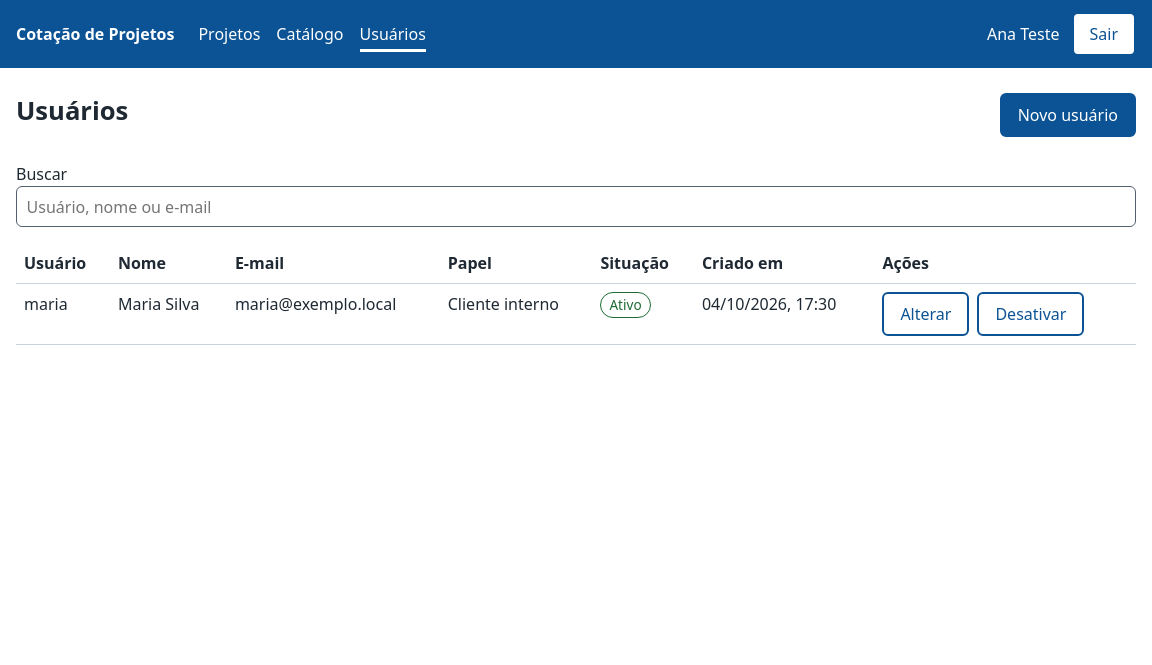
Gestão de usuários pelo Admin › mostra no campo a duplicidade apontada pela API
Step 1. Click the button with aria-label "Alterar maria" → (926, 314), box [882, 292, 969, 336]
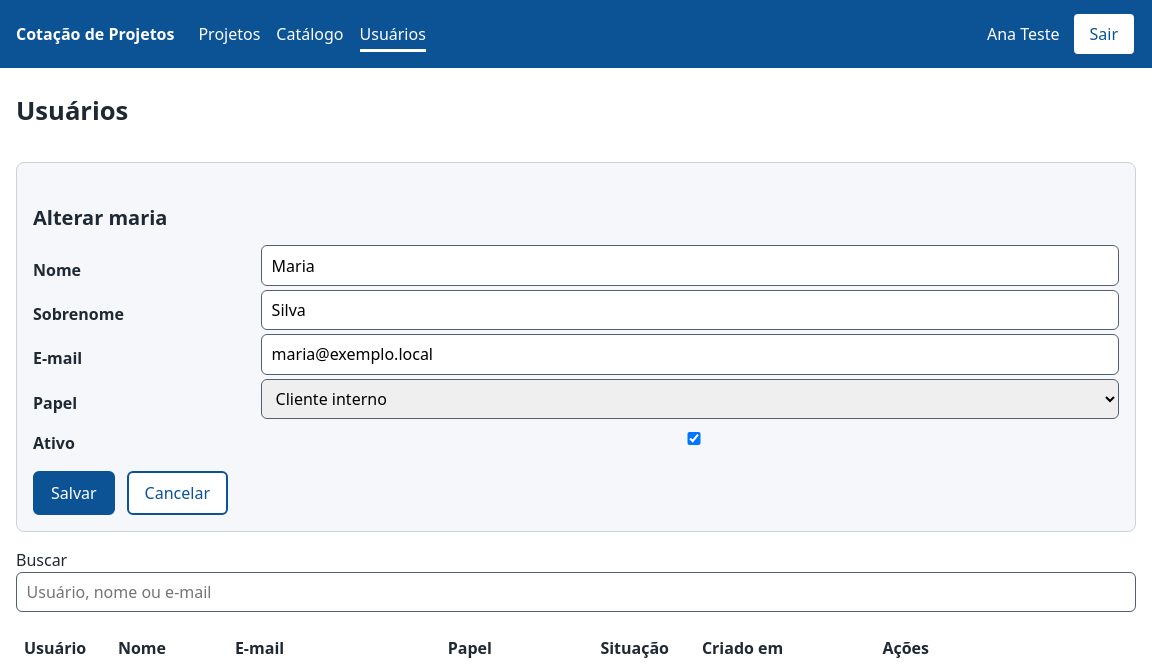
Now the checkbox labelled "Ativo" is checked, box [265, 432, 1123, 445]
Step 2. Click the button "Salvar" → (74, 493), box [33, 471, 115, 515]
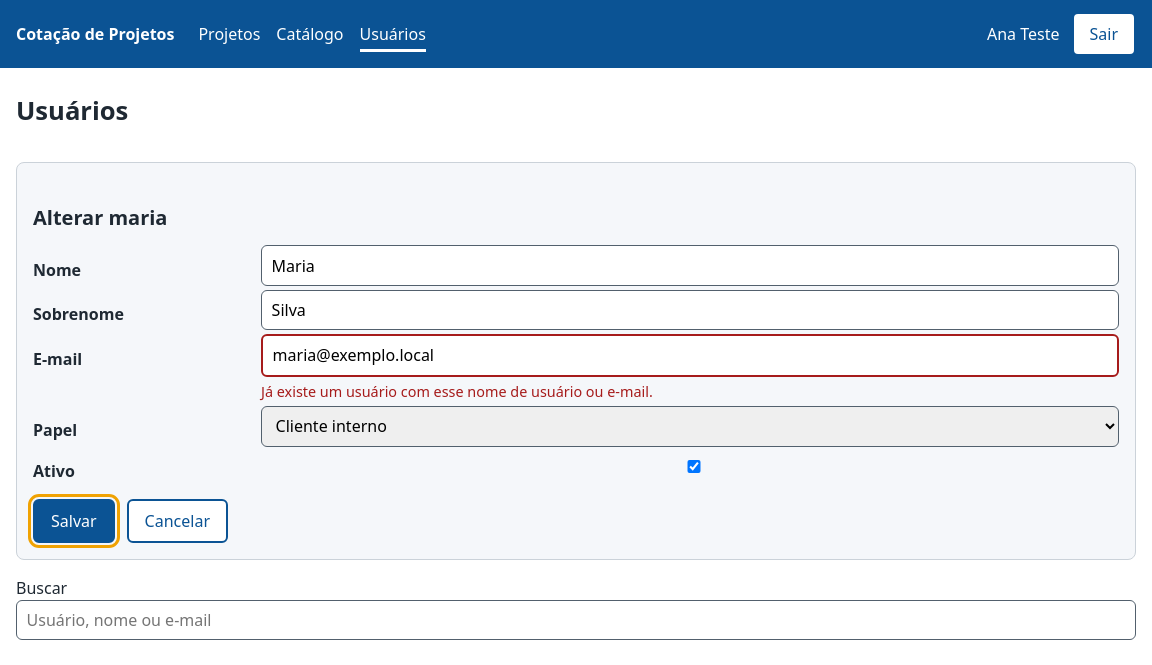
Now the text "Já existe um usuário com esse nome de usuário ou e-mail." is shown, box [261, 382, 653, 400]
